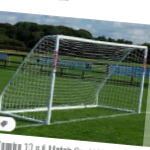goals: (1, 33, 149, 126)
